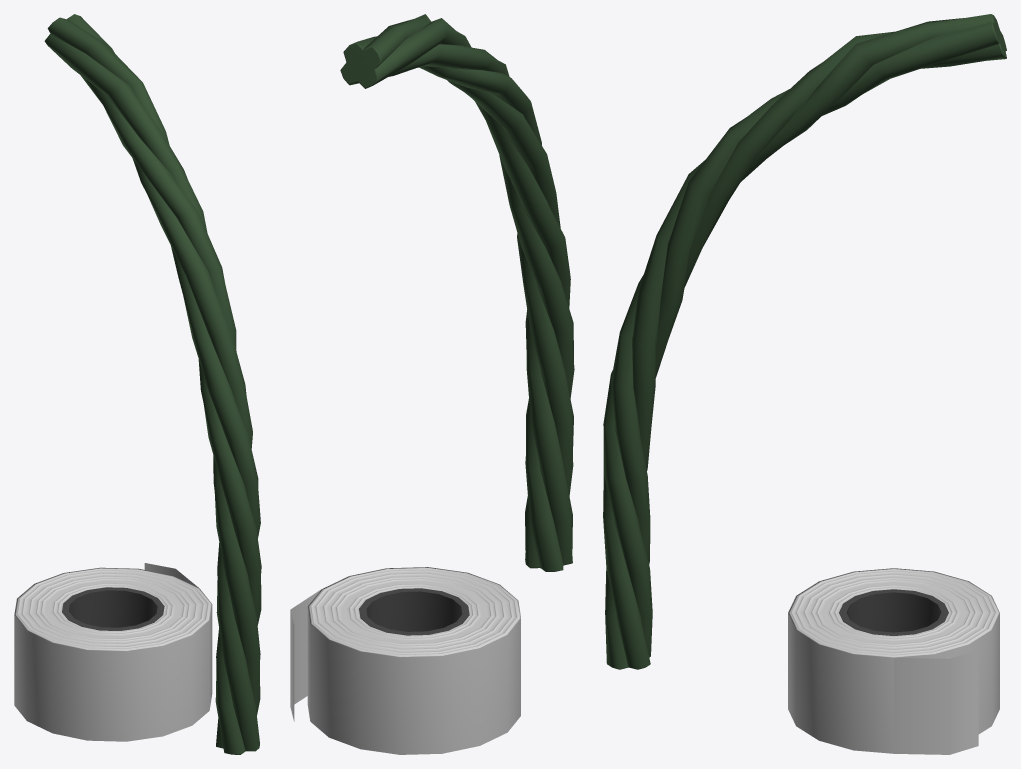
The model's file is Items3.fbx.
3 renders of one model, left to right at view 1: azimuth 30°, elevation 25°; view 2: azimuth 150°, elevation 25°; view 3: azimuth 270°, elevation 25°, orthographic. The views are drawn at different scales.
Visible parts, largest first — view 1: Cylinder, Cylinder.001; view 2: Cylinder.001, Cylinder; view 3: Cylinder, Cylinder.001.
Boxes of the visible parts, <box> form: Cylinder: <box>44,14,261,754</box>; Cylinder.001: <box>14,563,212,741</box>; Cylinder.001: <box>290,567,520,754</box>; Cylinder: <box>340,14,574,571</box>; Cylinder: <box>603,14,1006,669</box>; Cylinder.001: <box>788,568,999,754</box>.
Bounding box in the file's own units: 0.81 × 2.88 × 1.52.
